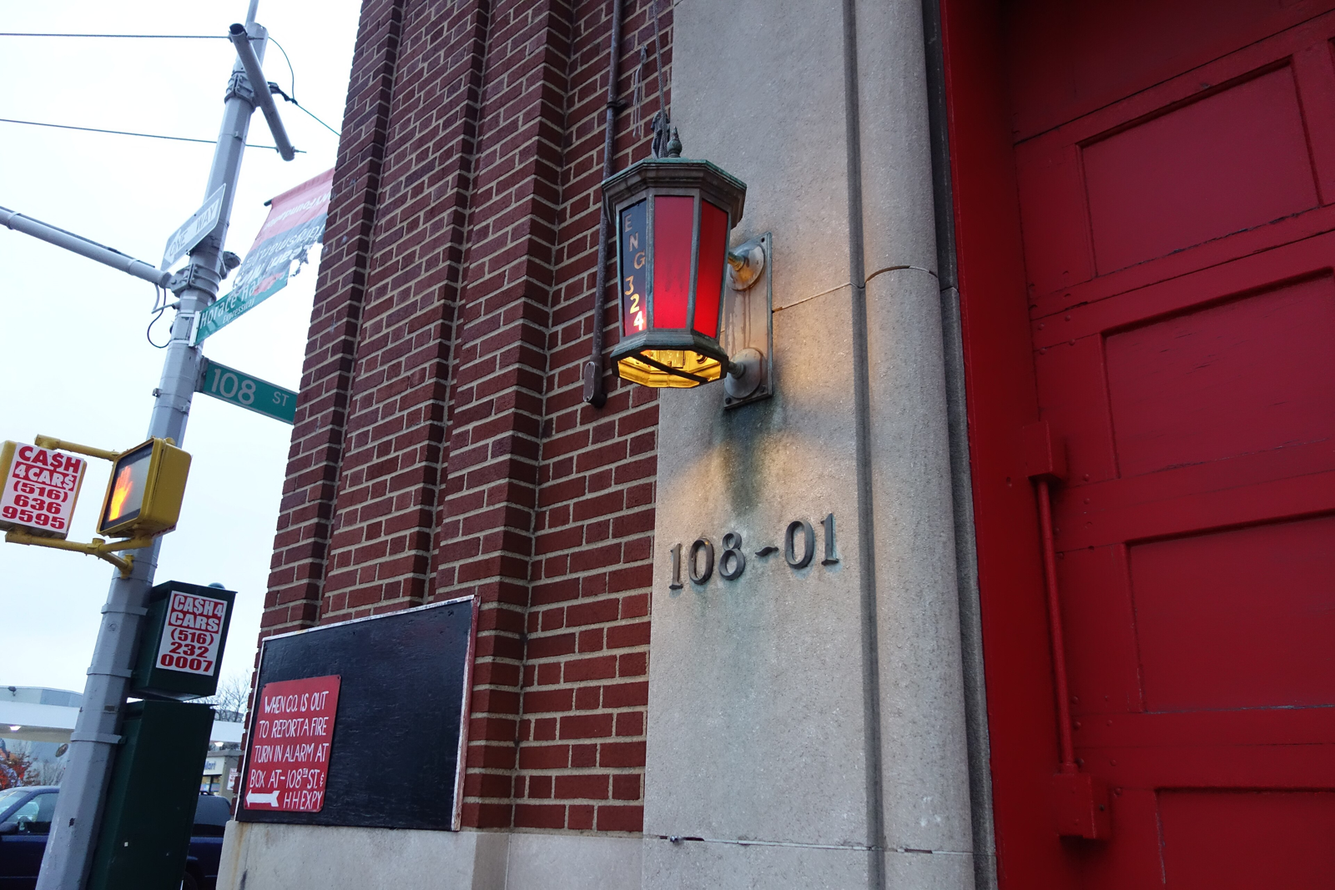fachada: (252, 0, 1335, 890)
poste: (25, 0, 288, 890)
